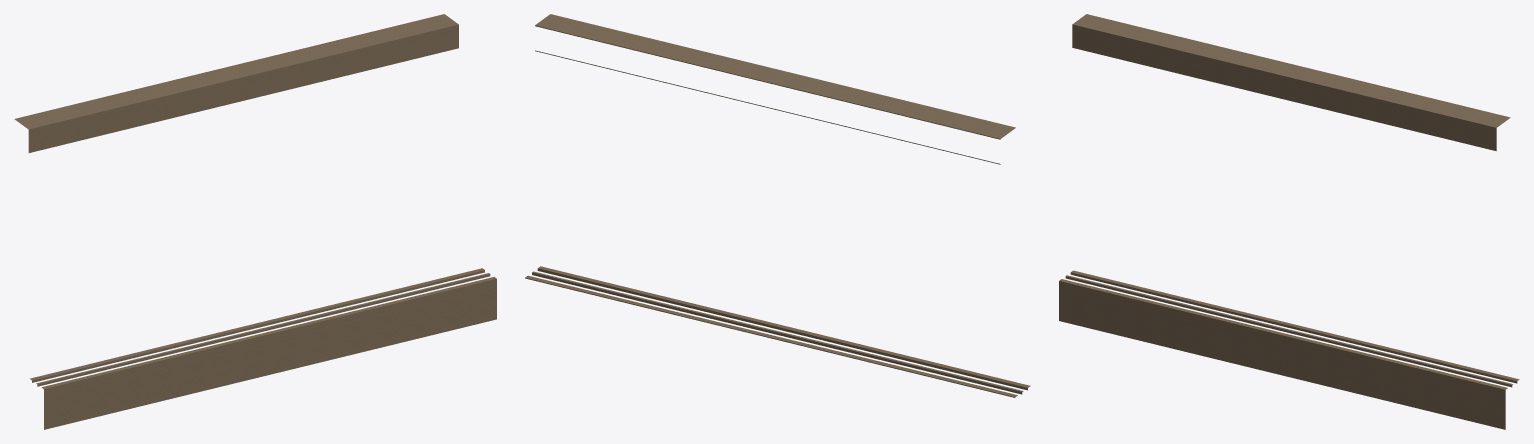
File: kd_stage_135b75_4_1_bounded_portal.glb
3 views of the same model, side by side, from view 1: azimuth 30°, elevation 25°; view 2: azimuth 150°, elevation 25°; view 3: azimuth 330°, elevation 25° (orthographic). The views are drawn at different scales.
Visible parts, largest first — view 1: kd_stage_135b75_4_1_bounded_portal; view 2: kd_stage_135b75_4_1_bounded_portal; view 3: kd_stage_135b75_4_1_bounded_portal.
Boxes of the visible parts, box(x1,y1,x2,y2) form: kd_stage_135b75_4_1_bounded_portal: box(14, 14, 496, 429); kd_stage_135b75_4_1_bounded_portal: box(525, 14, 1030, 397); kd_stage_135b75_4_1_bounded_portal: box(1059, 14, 1519, 429).
Size of the model in its own units: 2 by 1.22 by 0.22.
1 material, 1 textured.
